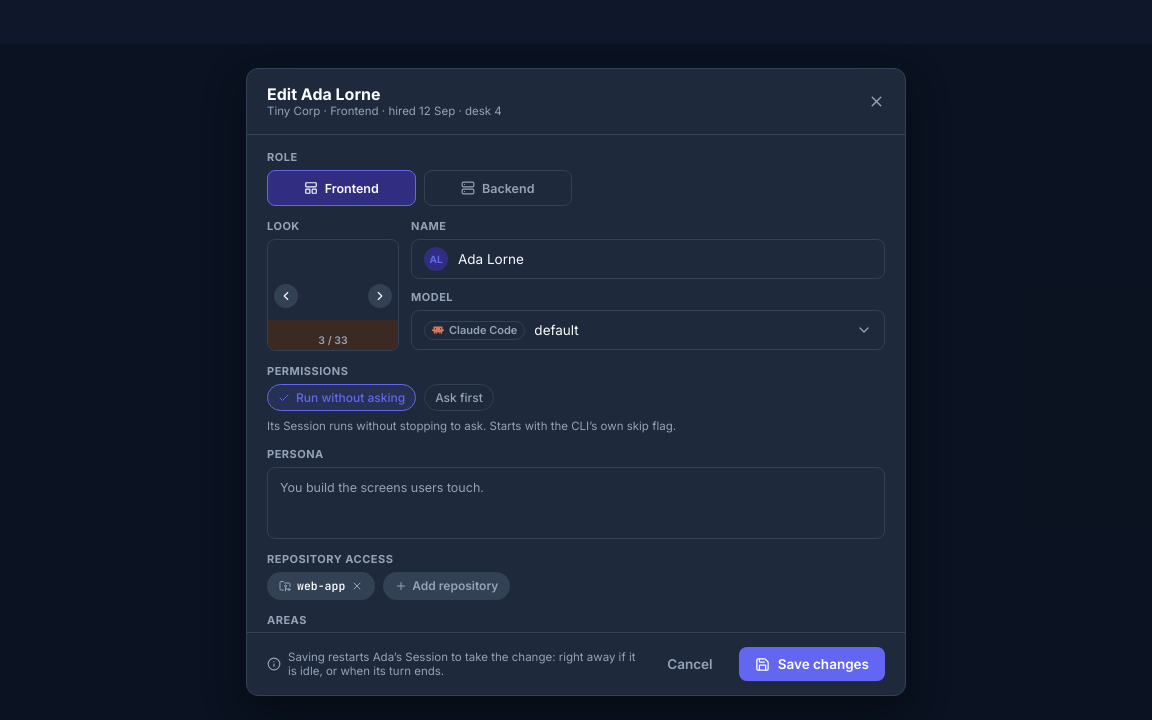
Test: changing an Employee’s role › moves a field the Employee followed onto the new role
The image size is (1152, 720).
Click the radio button labelled "Backend" at [498, 188], box [424, 170, 572, 206]
(page scrolled)
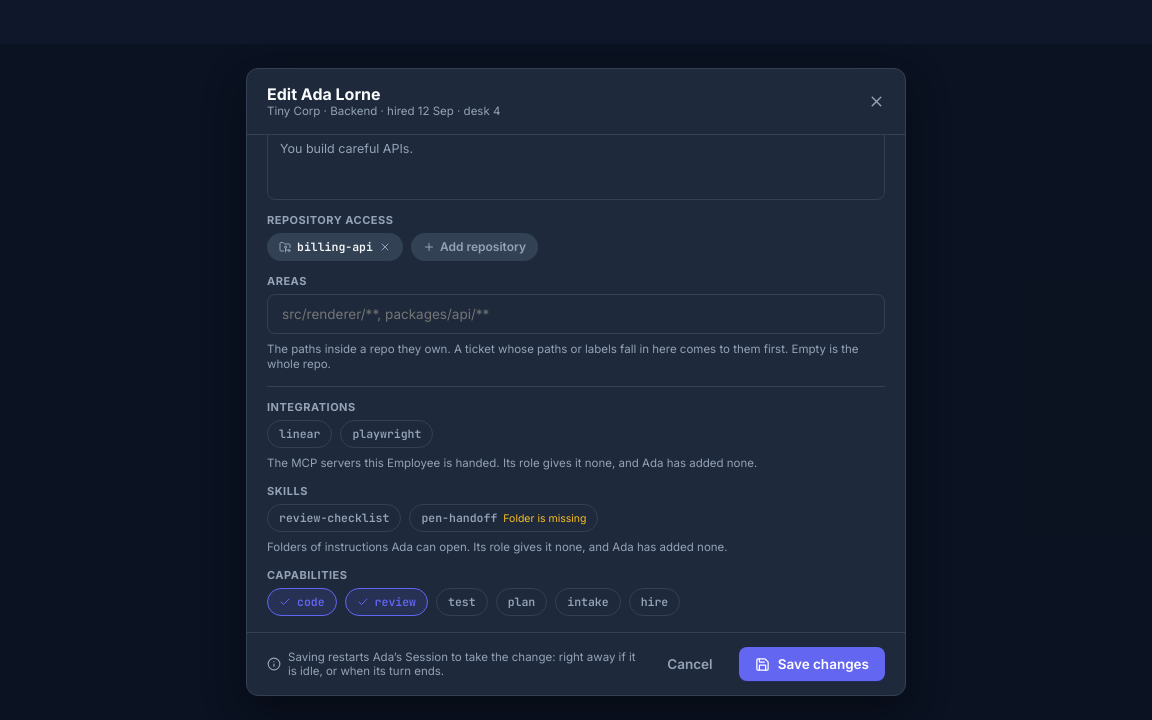
expect the text box labelled "PERSONA" holds "You build careful APIs.": met, box [267, 135, 885, 200]
